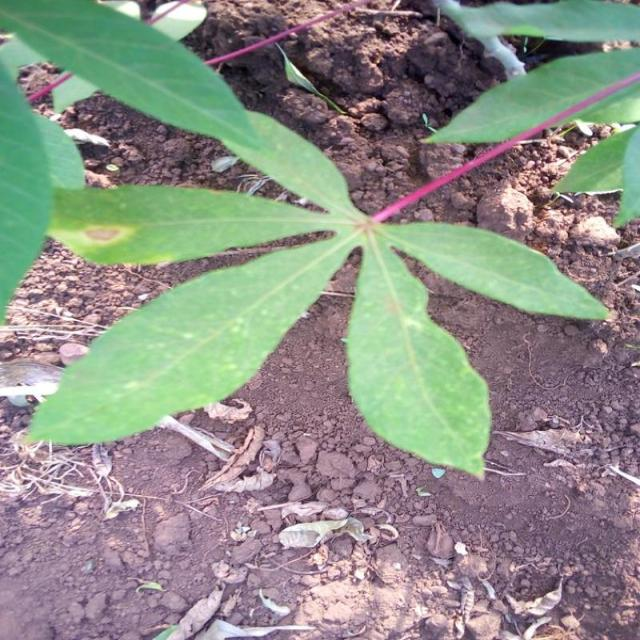cassava leaf: (1, 0, 615, 479), (419, 46, 639, 146)
